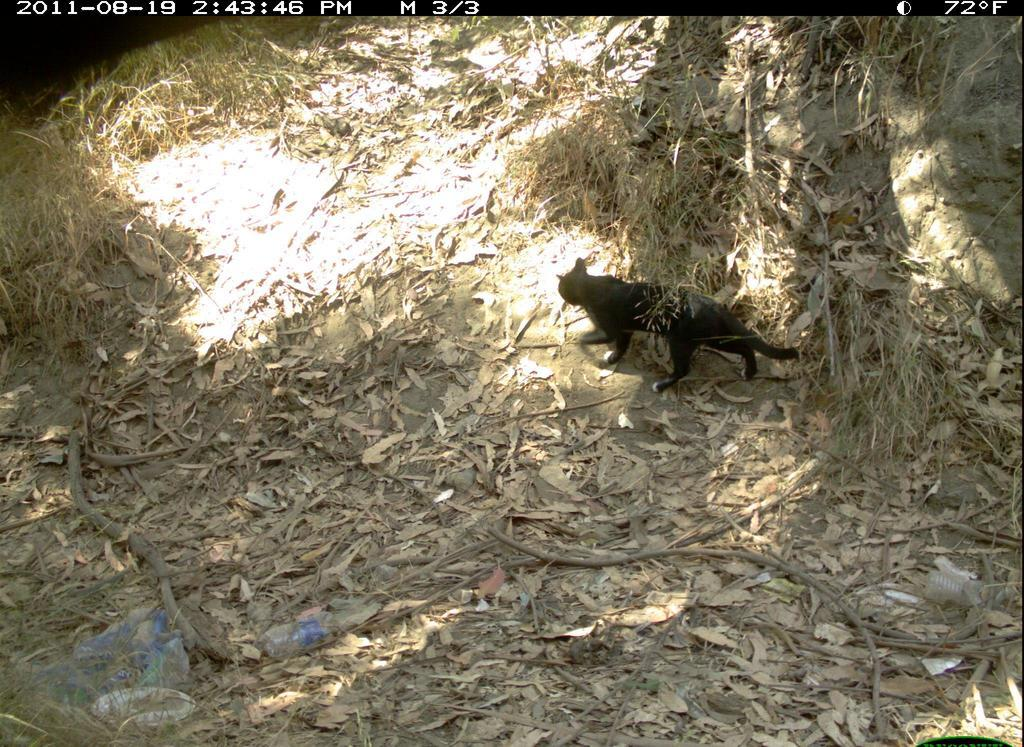cat: (546, 251, 813, 408)
